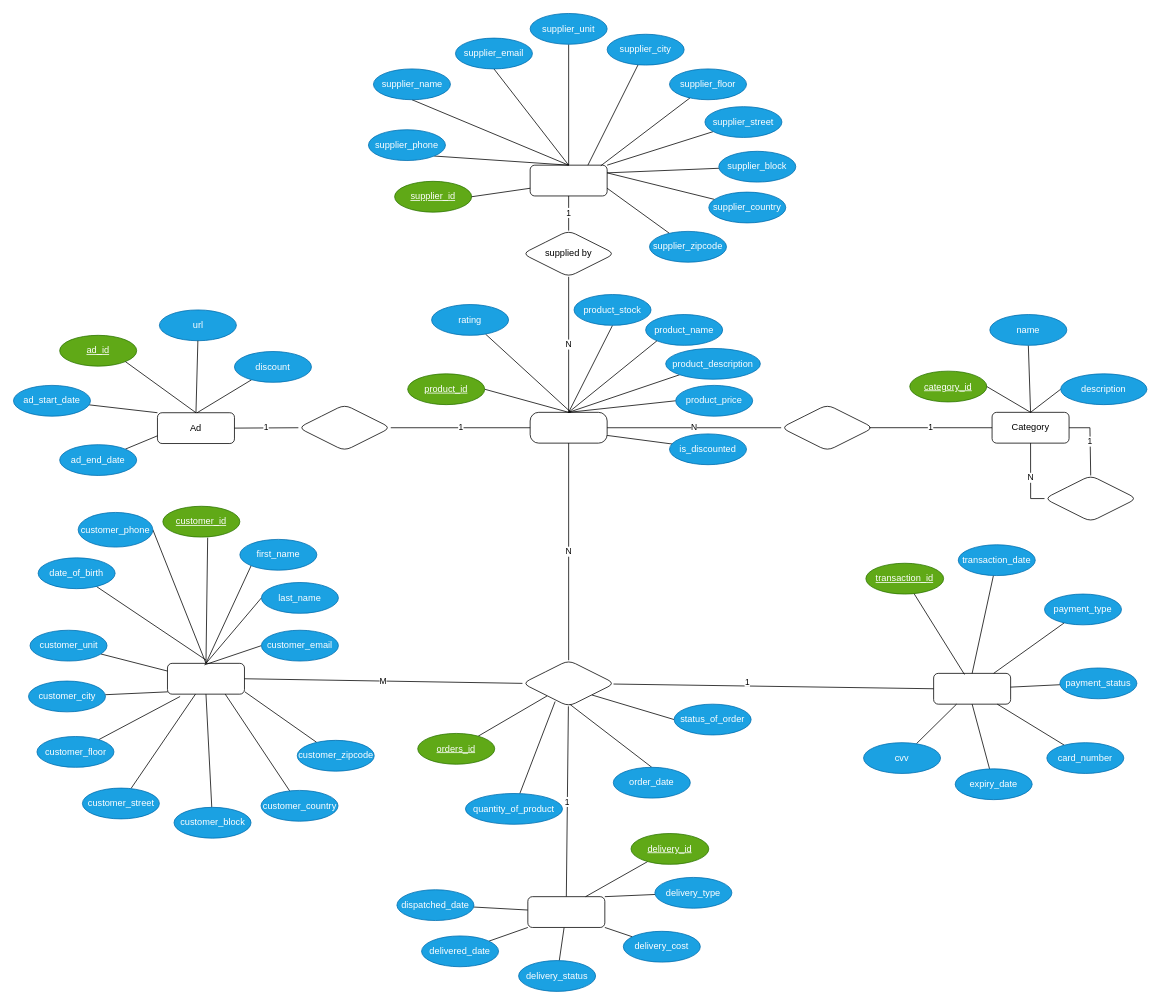
Some shapes in this 1160 by 1005 pixel diagram are drawn without their labels. The centre of each missing label's shape, as x and y in pixels:
belongs to: [827,427]
Customer: [205,678]
Delivery: [566,911]
has: [344,427]
is child of: [1090,498]
Orders: [568,683]
Product: [568,427]
Supplier: [568,180]
Transaction: [972,688]
